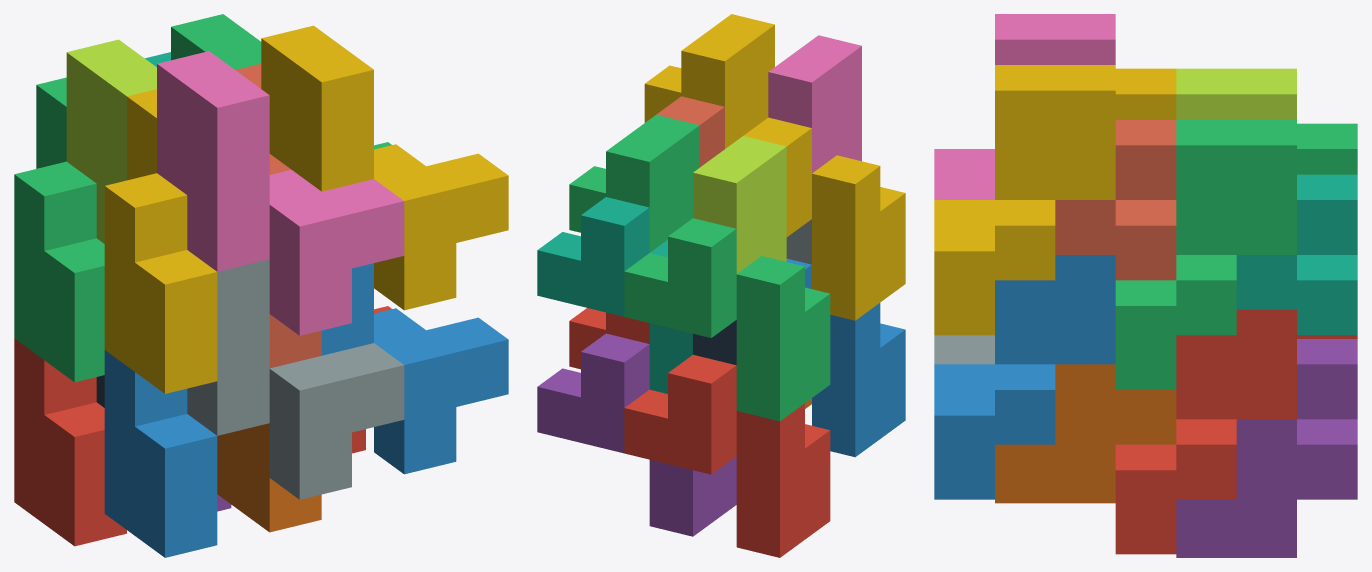
File: tiling.obj
3 renders of one model, left to right at view 1: azimuth 30°, elevation 25°; view 2: azimuth 150°, elevation 25°; view 3: azimuth 270°, elevation 25°, orthographic. The views are drawn at different scales.
Parts seen in each view (by area): view 1: copy_2_domain_4, copy_2_domain_8, copy_2_domain_2, copy_1_domain_4, copy_1_domain_3, copy_1_domain_2, copy_2_domain_6, copy_1_domain_1, copy_2_domain_3, copy_1_domain_6, copy_2_domain_7, copy_1_domain_8; view 2: copy_1_domain_3, copy_1_domain_1, copy_1_domain_4, copy_1_domain_5, copy_1_domain_7, copy_1_domain_2, copy_2_domain_7, copy_2_domain_8, copy_2_domain_3, copy_2_domain_4, copy_2_domain_5, copy_1_domain_8 (+2 smaller); view 3: copy_2_domain_8, copy_2_domain_7, copy_2_domain_6, copy_2_domain_5, copy_1_domain_5, copy_1_domain_6, copy_1_domain_8, copy_1_domain_7, copy_2_domain_4, copy_2_domain_3, copy_1_domain_4, copy_1_domain_3 (+1 smaller).
Part boxes in pixels (x1,y1,x2,y2): copy_2_domain_4: (157, 51, 404, 335); copy_2_domain_8: (261, 25, 508, 310); copy_2_domain_2: (187, 259, 404, 499); copy_1_domain_4: (104, 89, 217, 393); copy_1_domain_3: (14, 77, 104, 382); copy_1_domain_2: (104, 350, 217, 557); copy_2_domain_6: (321, 263, 508, 474); copy_1_domain_1: (14, 338, 126, 546); copy_2_domain_3: (66, 39, 156, 243); copy_1_domain_6: (217, 423, 321, 532); copy_2_domain_7: (171, 14, 391, 149); copy_1_domain_8: (235, 63, 321, 368); copy_1_domain_3: (624, 218, 830, 421); copy_1_domain_1: (624, 354, 830, 557); copy_1_domain_4: (743, 117, 905, 320); copy_1_domain_5: (537, 333, 736, 536); copy_1_domain_7: (537, 197, 692, 393); copy_1_domain_2: (786, 258, 905, 457); copy_2_domain_7: (569, 114, 699, 252); copy_2_domain_8: (644, 14, 774, 148); copy_2_domain_3: (693, 136, 786, 273); copy_2_domain_4: (768, 35, 861, 172); copy_2_domain_5: (569, 308, 649, 369); copy_1_domain_8: (656, 96, 724, 167); copy_2_domain_8: (934, 65, 1115, 335); copy_2_domain_7: (1115, 120, 1296, 389); copy_2_domain_6: (934, 255, 1115, 499); copy_2_domain_5: (1115, 309, 1296, 554); copy_1_domain_5: (1176, 339, 1357, 557); copy_1_domain_6: (995, 364, 1176, 503); copy_1_domain_8: (1055, 120, 1176, 280); copy_1_domain_7: (1236, 174, 1357, 335); copy_2_domain_4: (934, 14, 1115, 199); copy_2_domain_3: (1176, 68, 1296, 119); copy_1_domain_4: (1115, 68, 1176, 119); copy_1_domain_3: (1297, 123, 1357, 174).
Bounding box in the file's own units: 6 × 9 × 7.
